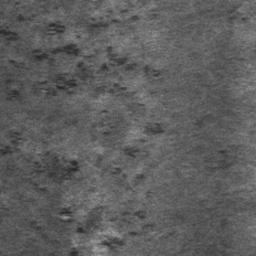Rolled in scale: (30, 123, 166, 256), (0, 0, 168, 107), (0, 110, 96, 223), (92, 110, 122, 139), (210, 145, 242, 172), (227, 6, 248, 35), (169, 216, 184, 237), (177, 244, 199, 256)
